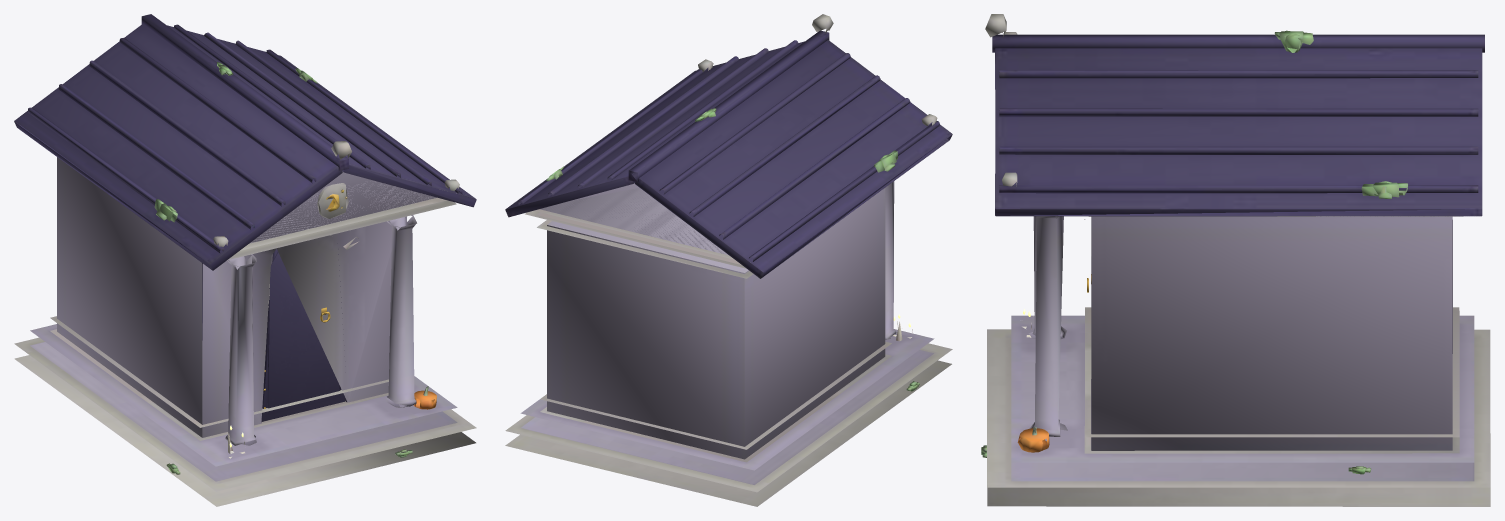
3 renders of one model, left to right at view 1: azimuth 30°, elevation 25°; view 2: azimuth 150°, elevation 25°; view 3: azimuth 270°, elevation 25°, orthographic. The views are drawn at different scales.
Parts seen in each view (by area): view 1: mausoleum_body, mausoleum_door; view 2: mausoleum_body; view 3: mausoleum_body.
Boxes of the visible parts, <box> form: mausoleum_body: <box>14,14,476,506</box>; mausoleum_door: <box>261,249,344,421</box>; mausoleum_body: <box>505,14,952,506</box>; mausoleum_body: <box>981,14,1490,506</box>.
Size of the model in its own units: 2.87 by 3.38 by 3.8.
Materials: 3 (2 with a texture image).
